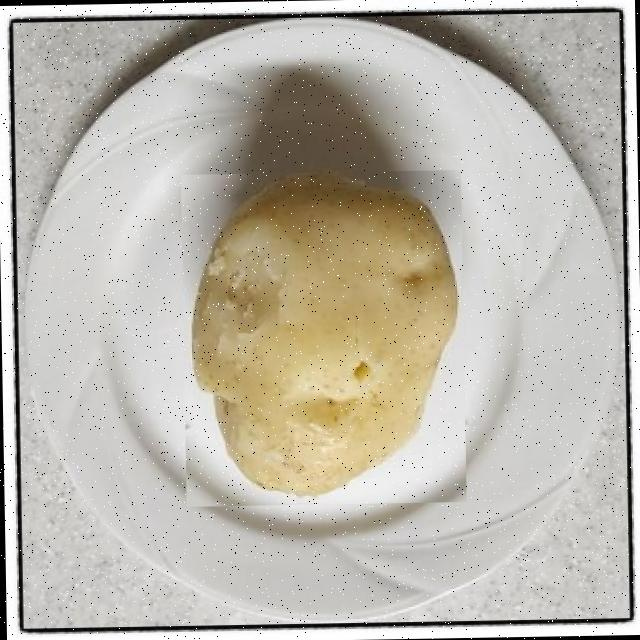Potato: (180, 169, 466, 506)
